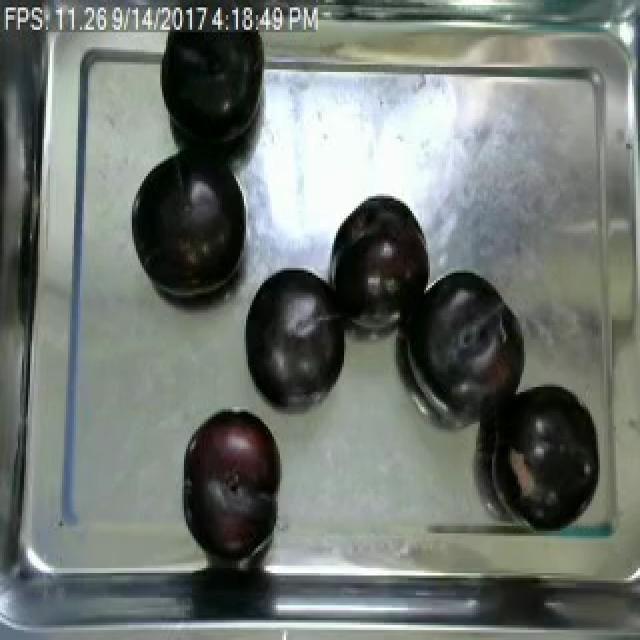Fruit: (126, 144, 254, 305), (398, 268, 524, 417), (486, 377, 604, 526), (238, 260, 350, 412), (178, 404, 286, 554), (326, 194, 432, 308)
